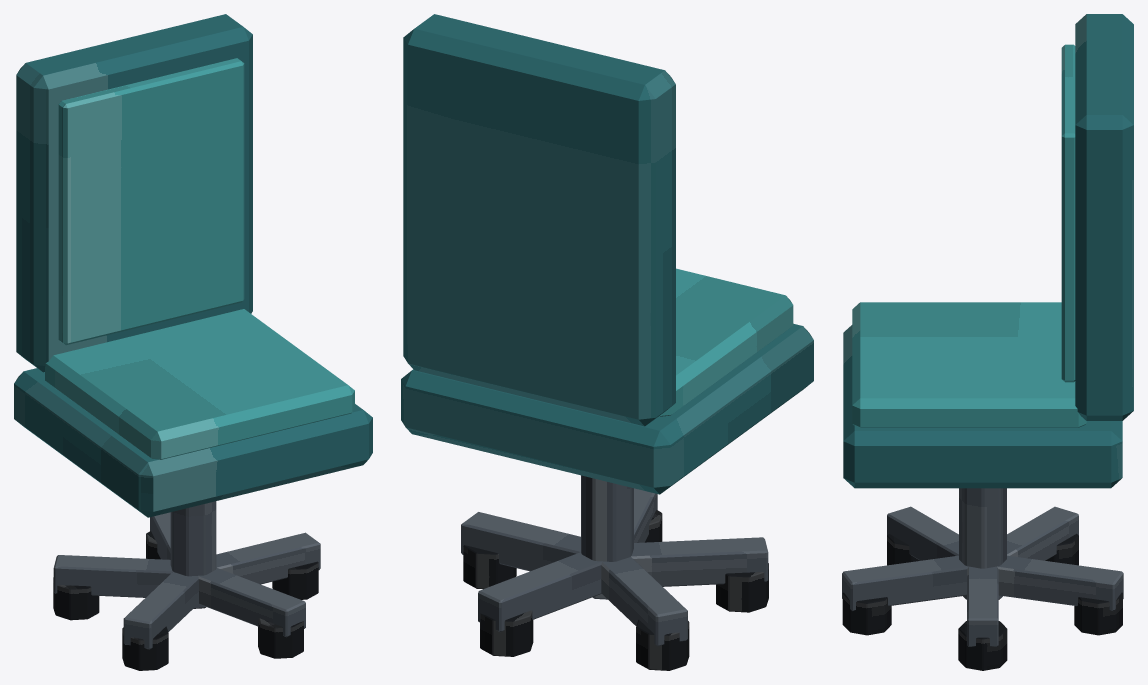
Rendered from office_task_chair.glb.
3 views of the same model, side by side, from view 1: azimuth 30°, elevation 25°; view 2: azimuth 150°, elevation 25°; view 3: azimuth 270°, elevation 25° (orthographic). The views are drawn at different scales.
Visible parts, largest first — view 1: BackInset, SeatCushion, Back, Seat, CasterArm_2, CasterArm_4, CasterArm_0, CasterArm_3, Stem, Caster_4, Caster_3, Caster_2 (+2 smaller); view 2: Back, Seat, SeatCushion, CasterArm_1, CasterArm_3, CasterArm_0, CasterArm_2, Stem, Caster_1, Caster_2, Caster_3, Caster_0 (+1 smaller); view 3: SeatCushion, Back, Seat, BackInset, CasterArm_1, CasterArm_4, Stem, CasterArm_2, CasterArm_3, CasterArm_0, Caster_0, Caster_4 (+3 smaller).
Part boxes in pixels (x1=…): BackInset: x1=58, y1=58, x2=244, y2=345; SeatCushion: x1=45, y1=309, x2=354, y2=459; Back: x1=16, y1=14, x2=252, y2=372; Seat: x1=14, y1=368, x2=372, y2=517; CasterArm_2: x1=53, y1=555, x2=173, y2=597; CasterArm_4: x1=198, y1=567, x2=305, y2=637; CasterArm_0: x1=216, y1=532, x2=320, y2=584; CasterArm_3: x1=123, y1=572, x2=198, y2=649; Stem: x1=170, y1=501, x2=216, y2=608; Caster_4: x1=258, y1=618, x2=303, y2=658; Caster_3: x1=122, y1=626, x2=168, y2=670; Caster_2: x1=53, y1=577, x2=99, y2=620; Back: x1=403, y1=14, x2=675, y2=426; Seat: x1=401, y1=323, x2=813, y2=494; SeatCushion: x1=659, y1=268, x2=793, y2=416; CasterArm_1: x1=478, y1=552, x2=601, y2=632; CasterArm_3: x1=631, y1=537, x2=768, y2=586; CasterArm_0: x1=461, y1=512, x2=580, y2=571; CasterArm_2: x1=601, y1=556, x2=687, y2=646; Stem: x1=581, y1=475, x2=633, y2=599; Caster_1: x1=480, y1=610, x2=533, y2=656; Caster_2: x1=636, y1=620, x2=689, y2=670; Caster_3: x1=716, y1=563, x2=768, y2=612; Caster_0: x1=463, y1=545, x2=516, y2=589; SeatCushion: x1=852, y1=302, x2=1086, y2=427; Back: x1=1075, y1=14, x2=1133, y2=420; Seat: x1=843, y1=325, x2=1122, y2=488; BackInset: x1=1061, y1=44, x2=1075, y2=382; CasterArm_1: x1=997, y1=555, x2=1123, y2=610; CasterArm_4: x1=842, y1=555, x2=968, y2=610; Stem: x1=959, y1=488, x2=1006, y2=599; CasterArm_2: x1=1007, y1=506, x2=1078, y2=560; CasterArm_3: x1=887, y1=506, x2=958, y2=560; CasterArm_0: x1=967, y1=566, x2=998, y2=646; Caster_0: x1=958, y1=621, x2=1007, y2=670; Caster_4: x1=842, y1=592, x2=891, y2=635.
Size of the model in its own units: 0.6342 by 1.33 by 0.6475.
Materials: 1 (1 with a texture image).
